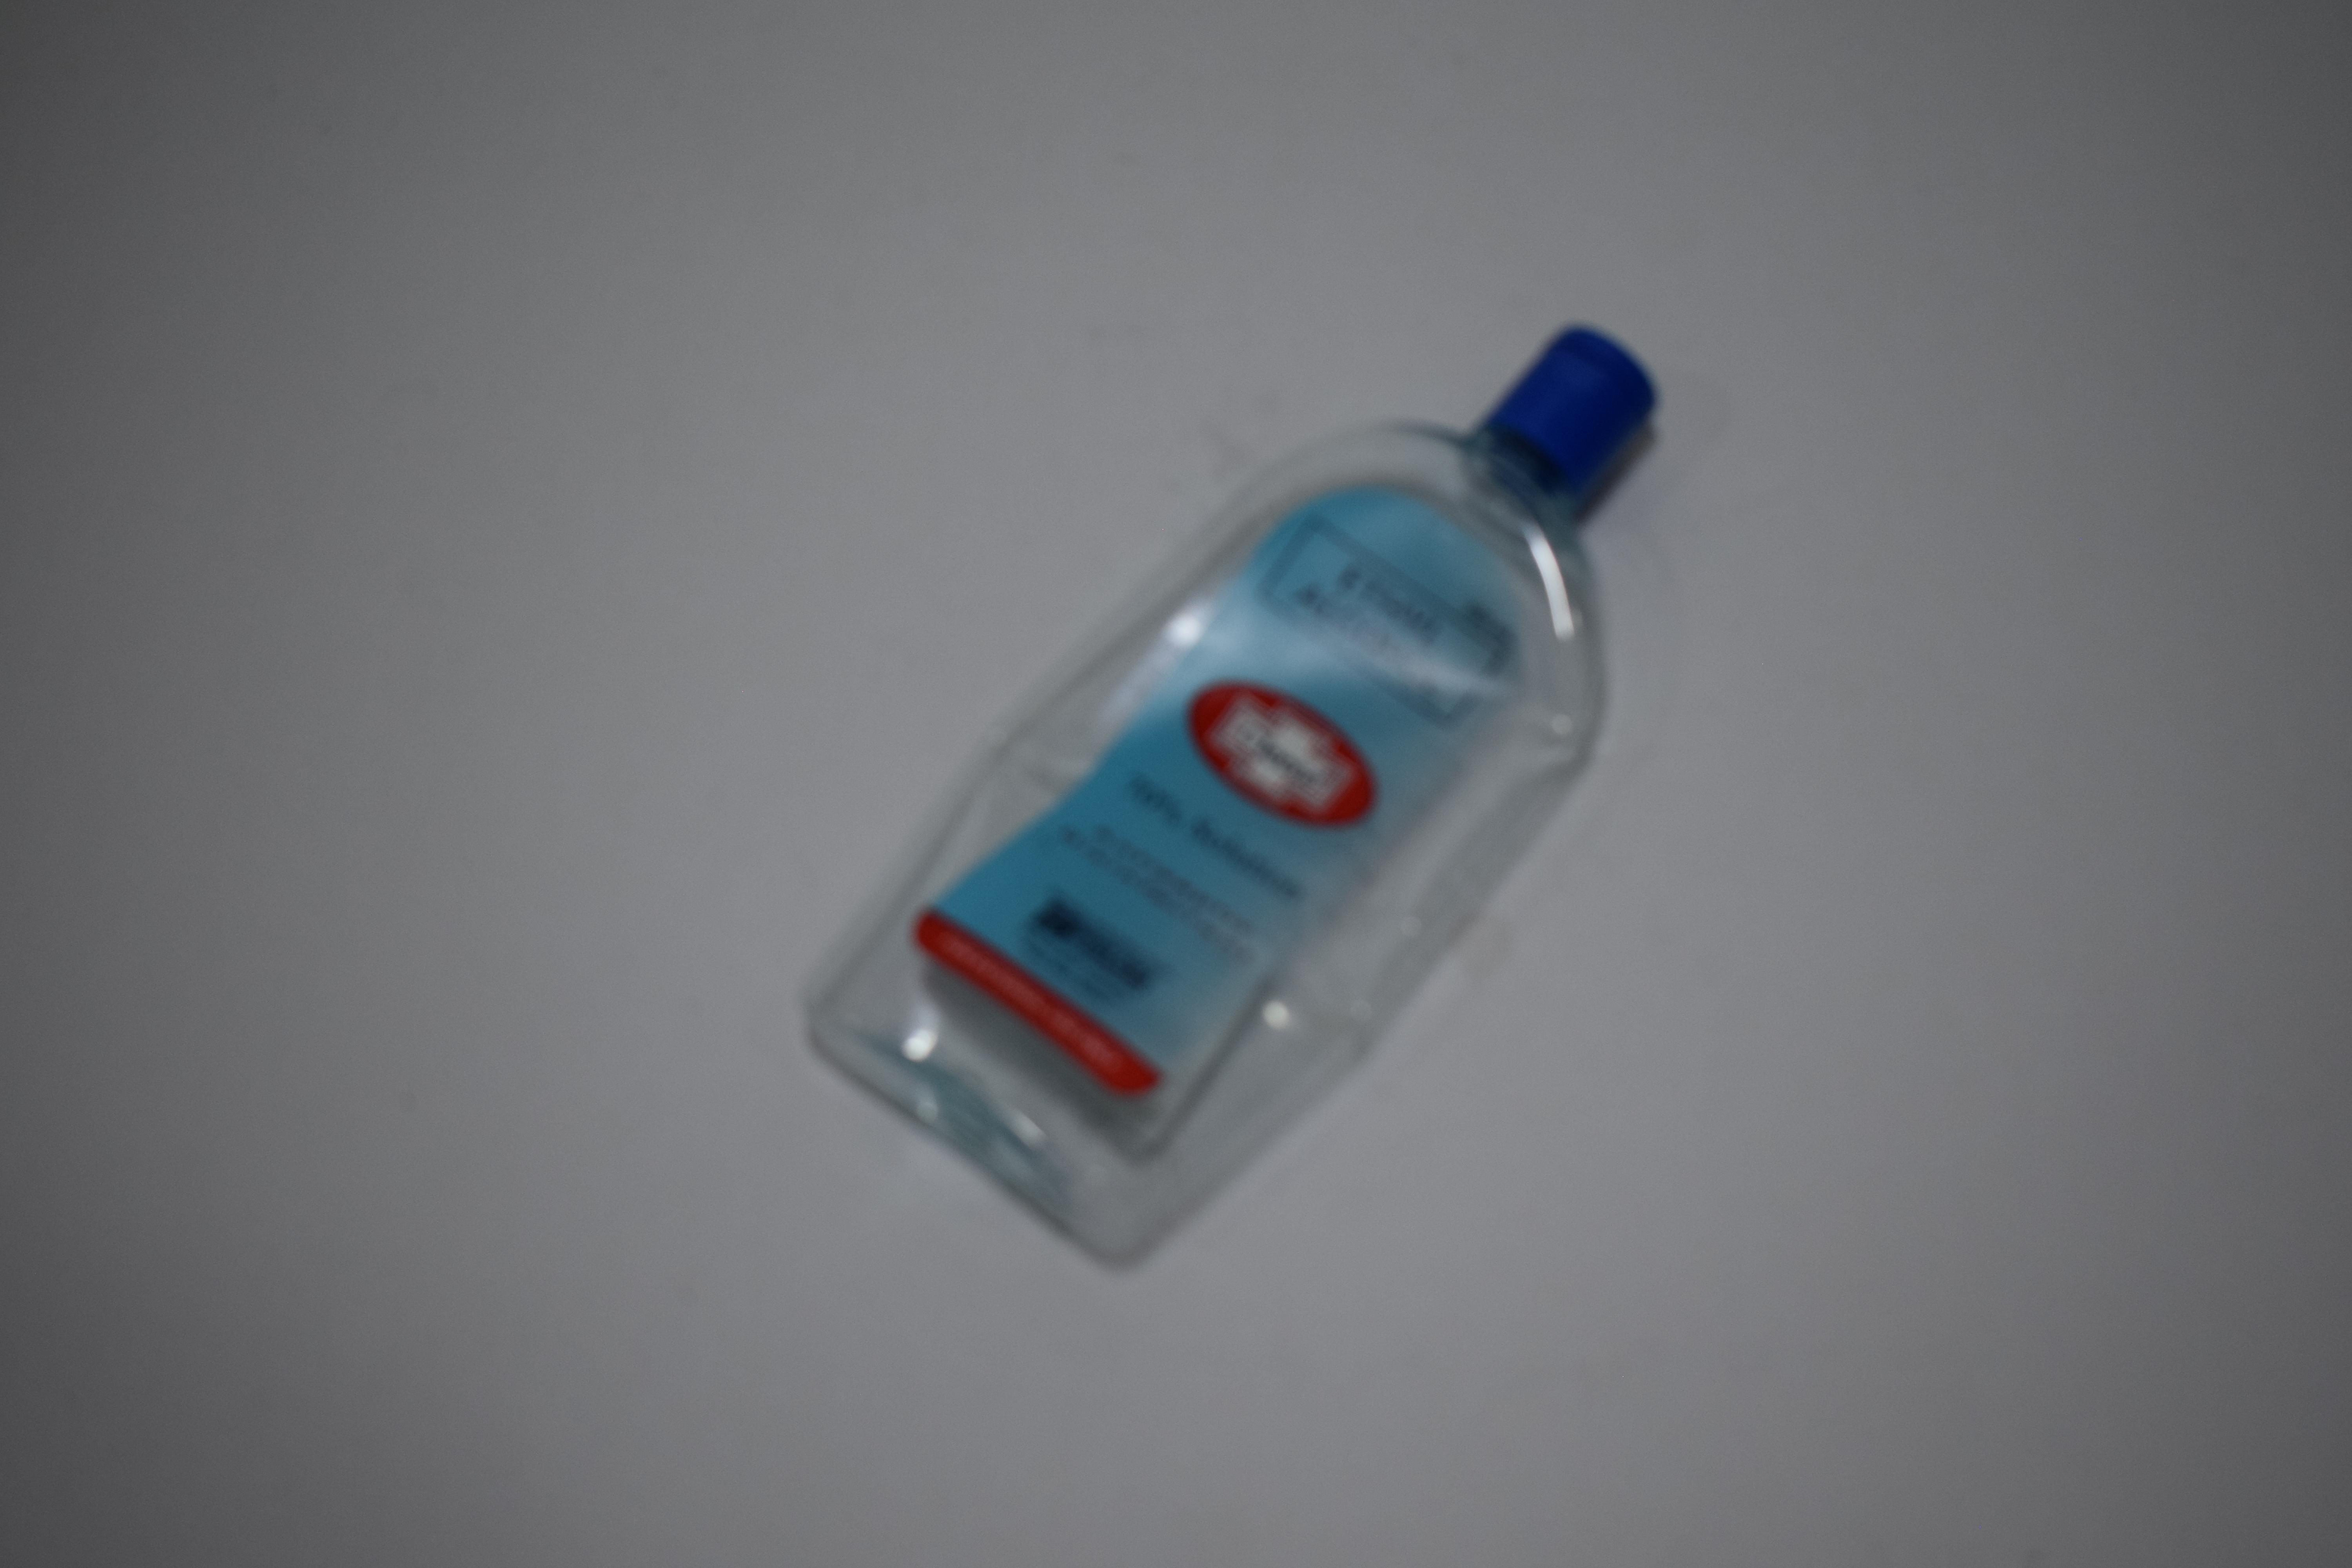bottle: (0, 0, 487, 481)
